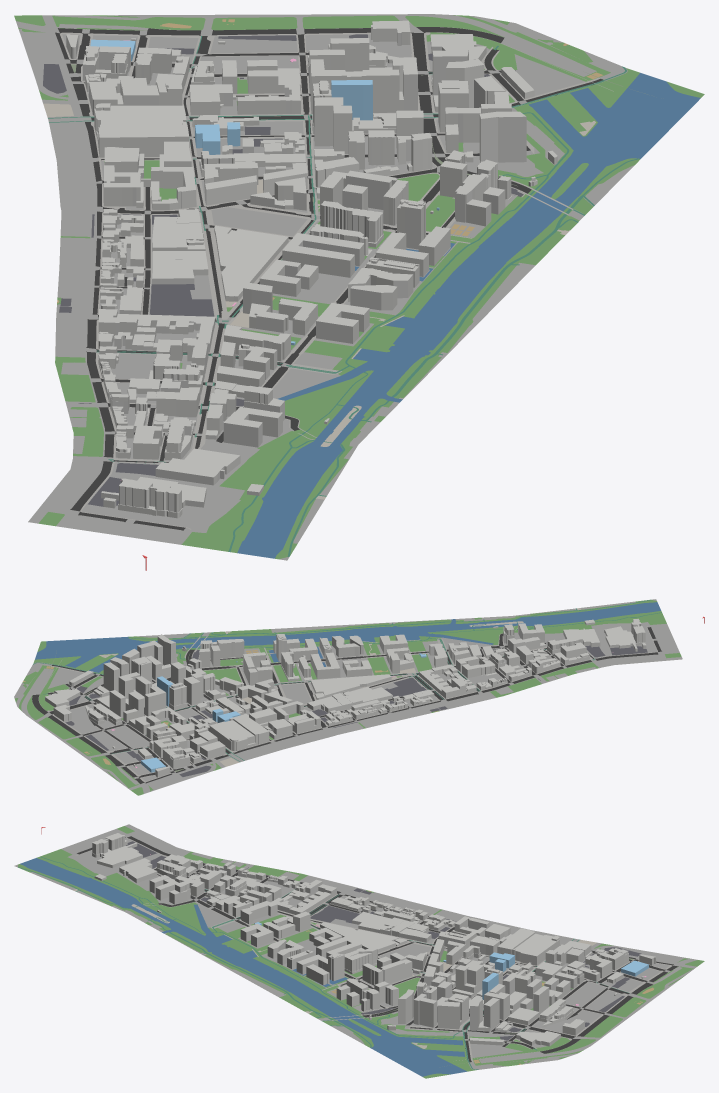
Rendered from greybox.glb.
3 renders of one model, top to bottom at view 1: azimuth 30°, elevation 25°; view 2: azimuth 150°, elevation 25°; view 3: azimuth 270°, elevation 25°, orthographic. The views are drawn at different scales.
Visible parts, largest first — view 1: ground_not classified, ground_green, ground_water, ground_roadway, ground_sidewalk, ground_parking, ground_bike, w26500307, w225600473, w47175647, w1381560040, w806954151 (+39 smaller); view 2: ground_not classified, ground_green, ground_water, ground_roadway, ground_sidewalk, ground_parking, ground_bike, w26500307, w225600473, w47175647, w201008914, w1081874551 (+26 smaller); view 3: ground_not classified, ground_green, ground_water, ground_roadway, ground_sidewalk, ground_bike, ground_parking, w26500307, w47175647, w225600473, w199235094, w699964838 (+15 smaller).
Boxes of the visible parts, bbox=[...] form: ground_not classified: bbox=[16, 14, 634, 560]; ground_green: bbox=[14, 15, 704, 559]; ground_water: bbox=[237, 73, 700, 558]; ground_roadway: bbox=[55, 27, 602, 530]; ground_sidewalk: bbox=[60, 29, 613, 529]; ground_parking: bbox=[43, 34, 523, 506]; ground_bike: bbox=[48, 36, 639, 556]; w26500307: bbox=[94, 103, 189, 157]; w225600473: bbox=[215, 229, 288, 301]; w47175647: bbox=[101, 477, 206, 518]; w1381560040: bbox=[282, 233, 364, 277]; w806954151: bbox=[479, 111, 526, 162]; ground_not classified: bbox=[14, 599, 682, 793]; ground_green: bbox=[14, 600, 681, 795]; ground_water: bbox=[35, 602, 660, 672]; ground_roadway: bbox=[32, 627, 661, 783]; ground_sidewalk: bbox=[38, 626, 657, 782]; ground_parking: bbox=[65, 645, 647, 776]; ground_bike: bbox=[33, 599, 661, 761]; w26500307: bbox=[209, 714, 269, 750]; w225600473: bbox=[311, 674, 391, 697]; w47175647: bbox=[604, 618, 645, 651]; w201008914: bbox=[133, 676, 166, 716]; w1081874551: bbox=[190, 731, 225, 759]; ground_not classified: bbox=[14, 824, 697, 1069]; ground_green: bbox=[18, 826, 704, 1078]; ground_water: bbox=[20, 858, 466, 1076]; ground_roadway: bbox=[77, 836, 678, 1062]; ground_sidewalk: bbox=[76, 837, 671, 1061]; ground_bike: bbox=[18, 856, 629, 1069]; ground_parking: bbox=[125, 841, 641, 1040]; w26500307: bbox=[497, 928, 559, 965]; w47175647: bbox=[92, 833, 142, 868]; w225600473: bbox=[320, 922, 398, 952]; w199235094: bbox=[438, 993, 468, 1029]; w699964838: bbox=[470, 997, 499, 1030].
Size of the model in its own units: 1580 by 72.4 by 1813.
